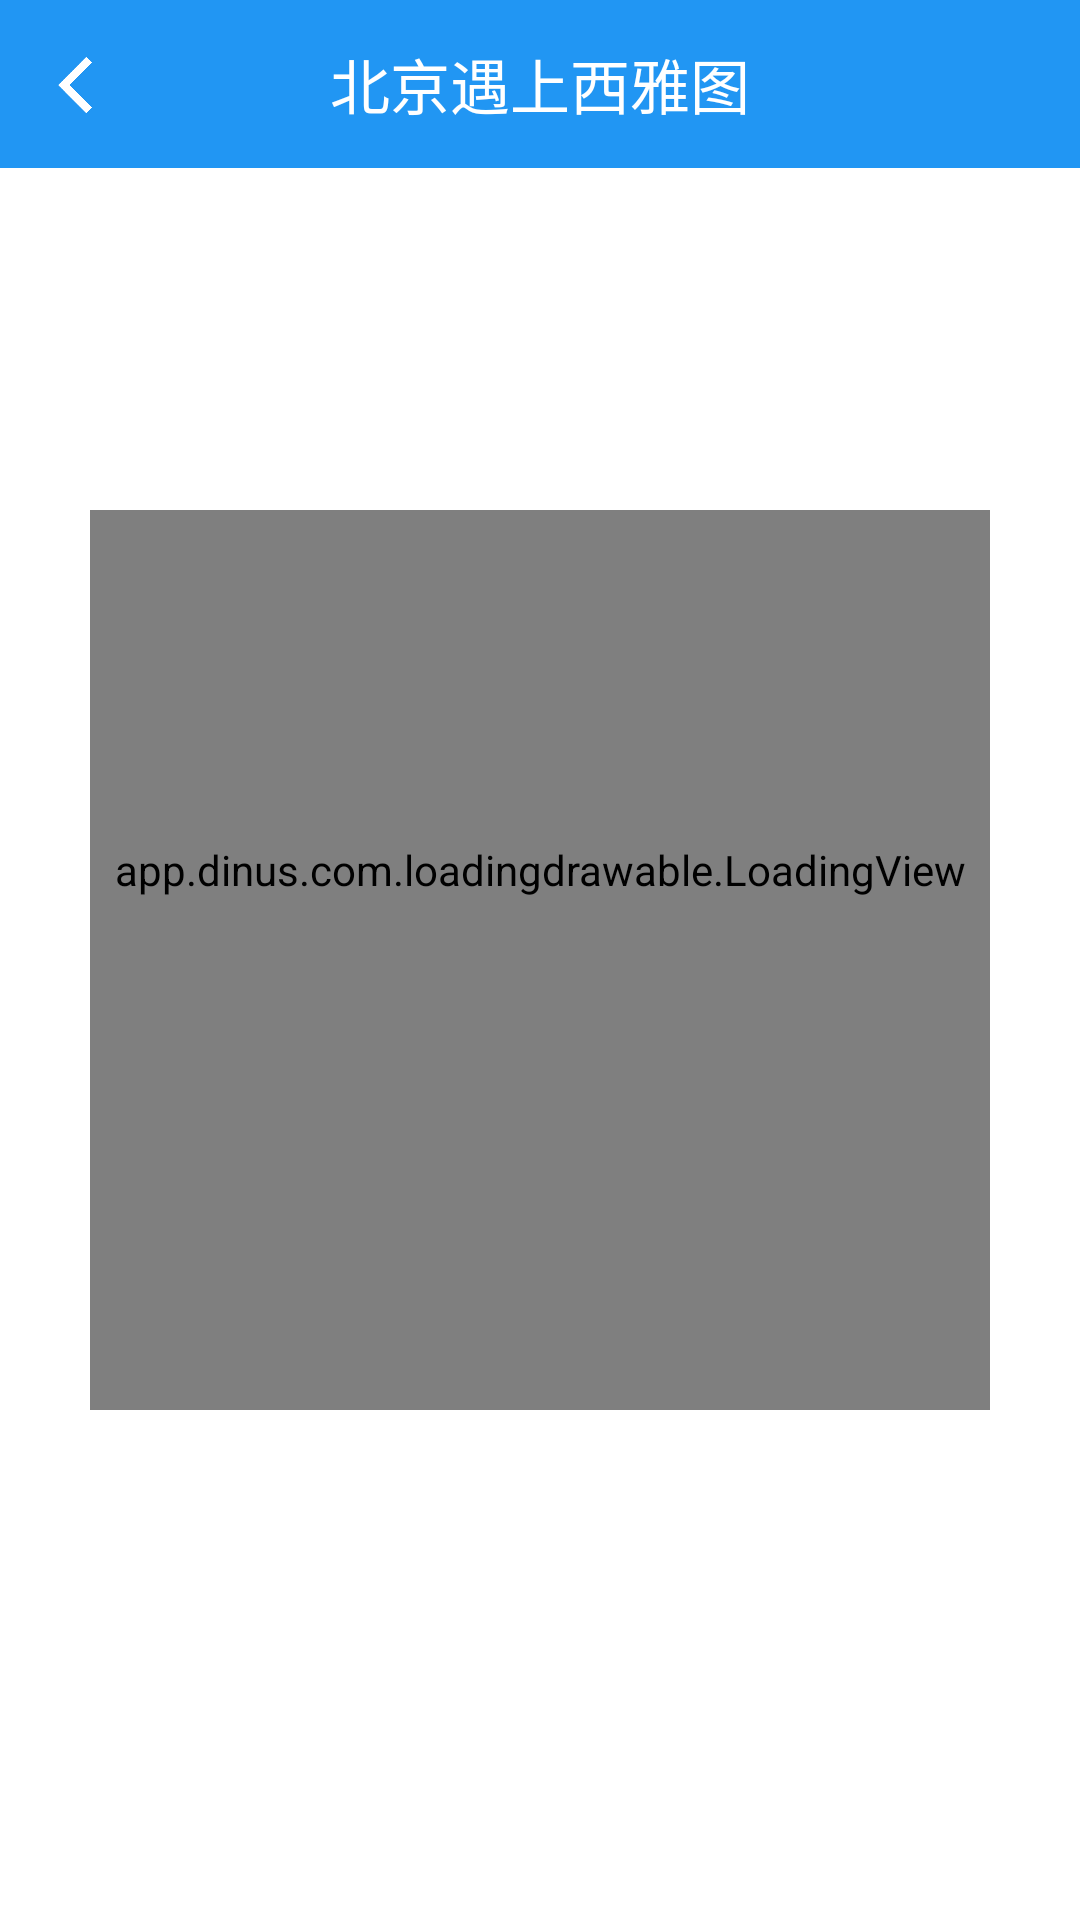

Icon click points for this 1080 x 1920 phone screenshot, format (x,y):
back: (75,85)
